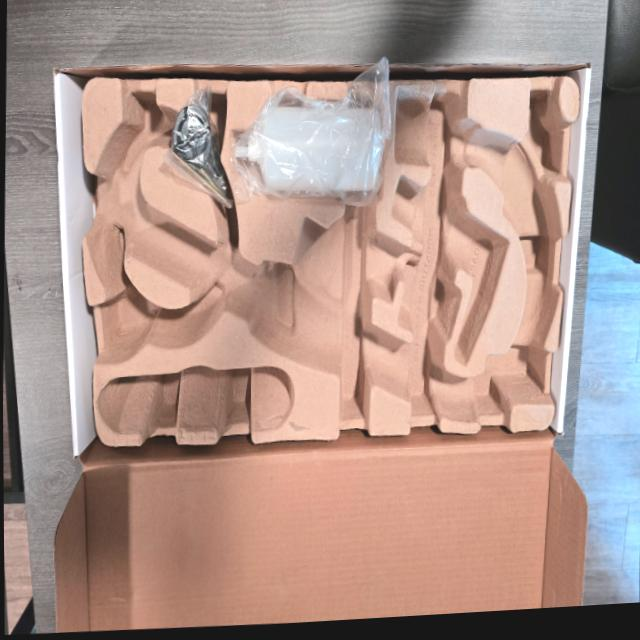1m: (84, 89, 557, 418)
2m: (391, 175, 505, 361)
3: (233, 104, 382, 192)
4m: (96, 365, 291, 430)
5m: (109, 289, 151, 336)
6m: (109, 88, 162, 178)
7: (159, 79, 230, 209)
